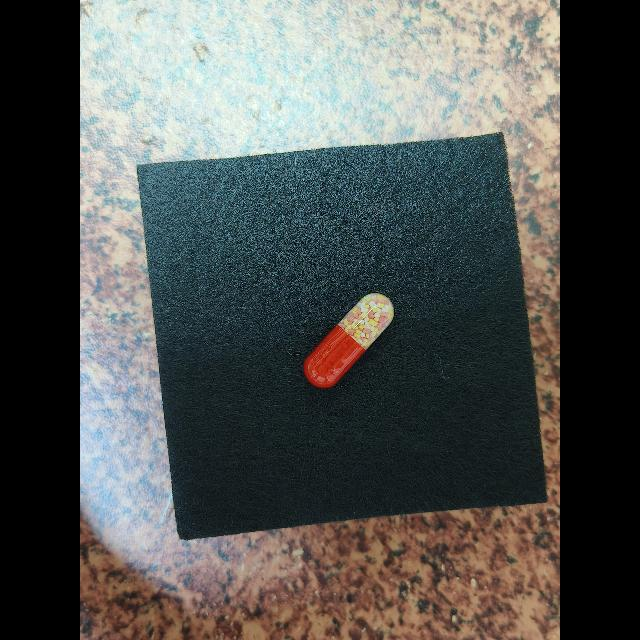Intact Capsule: (304, 293, 394, 388)
